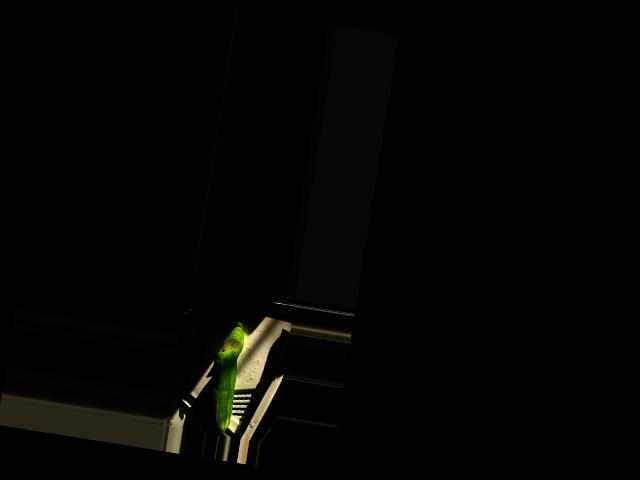cucumber: (203, 347, 241, 434)
